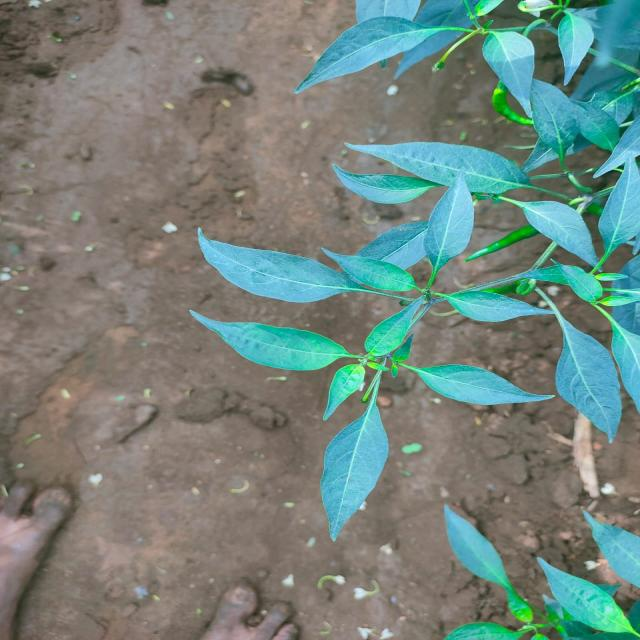Mosaic_virus: (215, 0, 640, 640)
